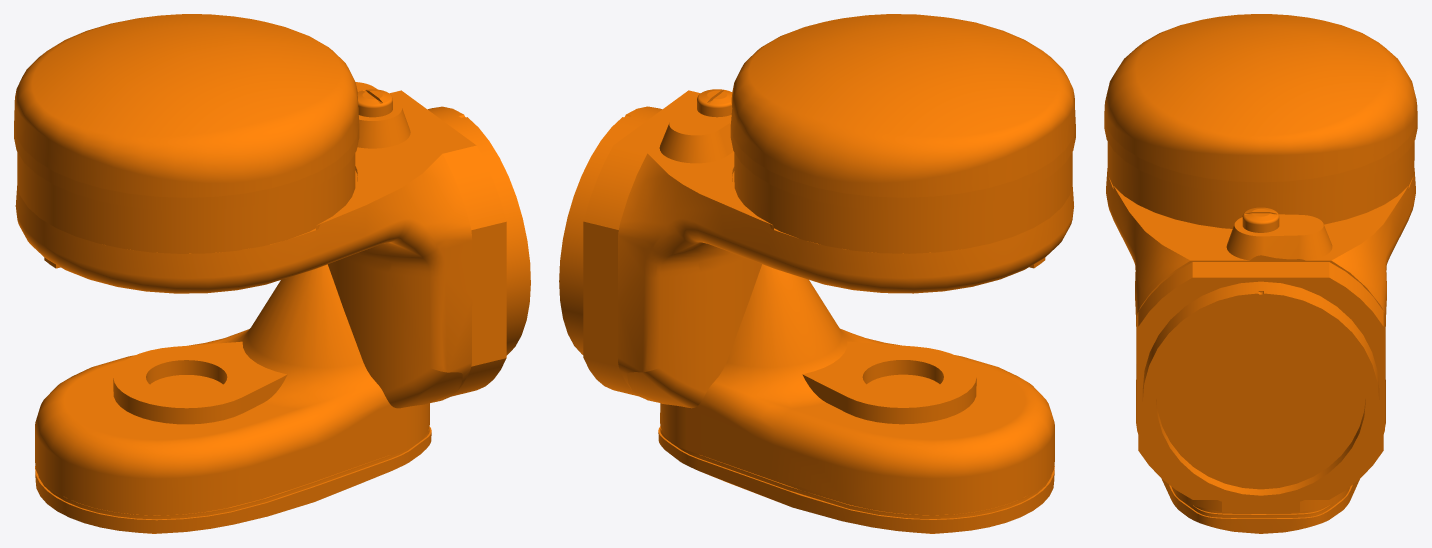
3 views of the same model, side by side, from view 1: azimuth 30°, elevation 25°; view 2: azimuth 150°, elevation 25°; view 3: azimuth 270°, elevation 25° (orthographic). The views are drawn at different scales.
Visible parts, largest first — view 1: COMPOUND044; view 2: COMPOUND044; view 3: COMPOUND044.
Part boxes in pixels (left/top/right/bottom): COMPOUND044: left=14, top=14, right=530, bottom=533; COMPOUND044: left=559, top=14, right=1075, bottom=533; COMPOUND044: left=1104, top=14, right=1417, bottom=533.
Bounding box in the file's own units: 0.304 × 0.3062 × 0.212.
